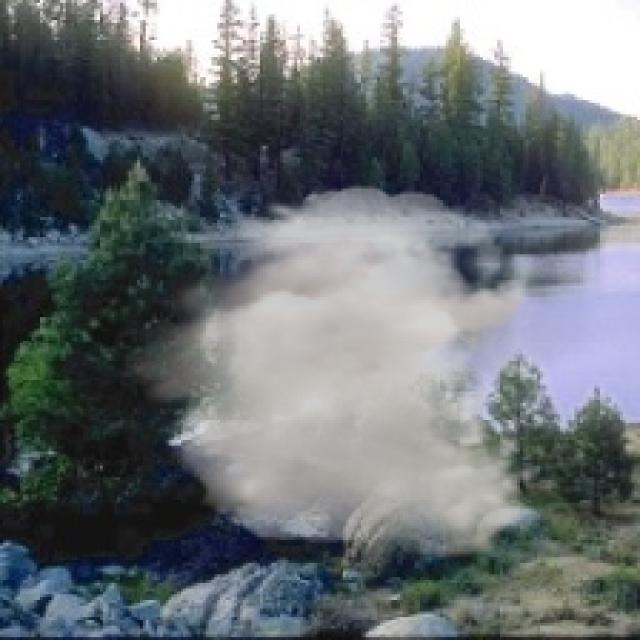smoke: (117, 186, 543, 560)
